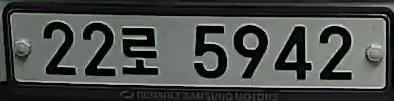2: (317, 22, 357, 84), (38, 19, 80, 77), (80, 20, 120, 78)
4: (272, 22, 316, 82)
5: (190, 22, 231, 80)
9: (231, 22, 272, 80)
로: (119, 21, 165, 79)
